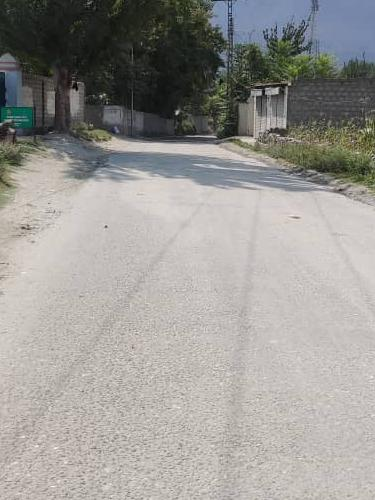sharp_turn: (83, 85, 268, 500)
